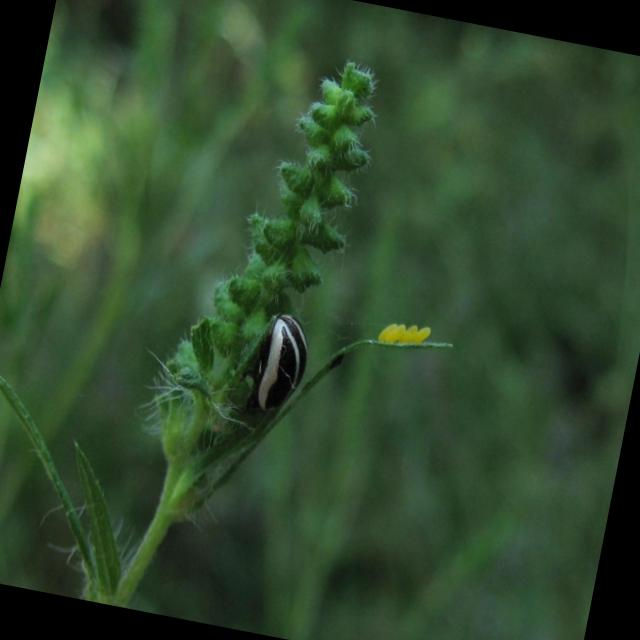ambrosia: (127, 7, 439, 500)
